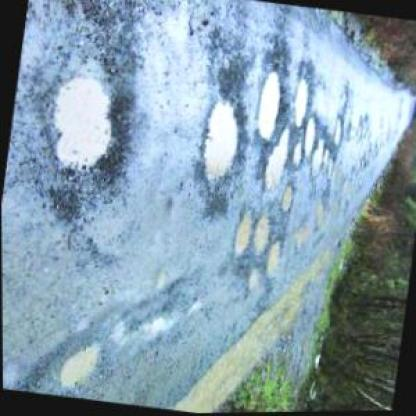pothole: (38, 71, 138, 191), (197, 97, 245, 189), (57, 338, 105, 396), (254, 68, 286, 146), (229, 208, 256, 263), (288, 78, 314, 132), (299, 115, 319, 161), (250, 218, 272, 255), (265, 241, 284, 280), (309, 139, 326, 179), (279, 184, 295, 216), (246, 266, 262, 294), (330, 120, 345, 148)
